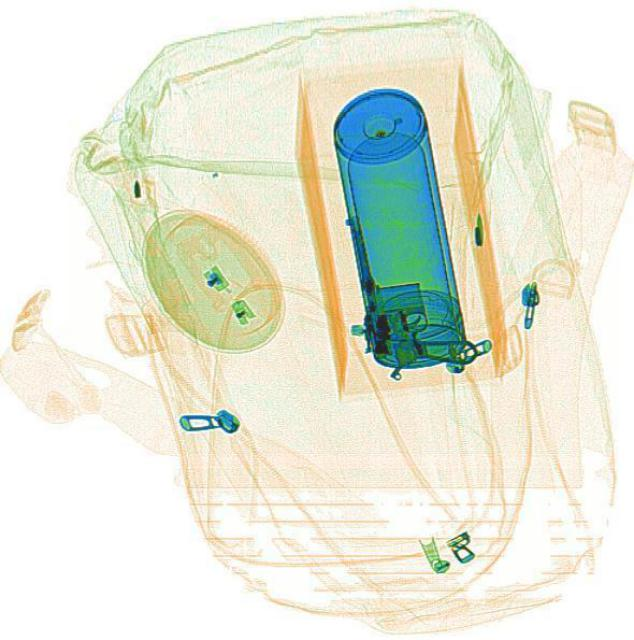Gun: (335, 200, 478, 384)
